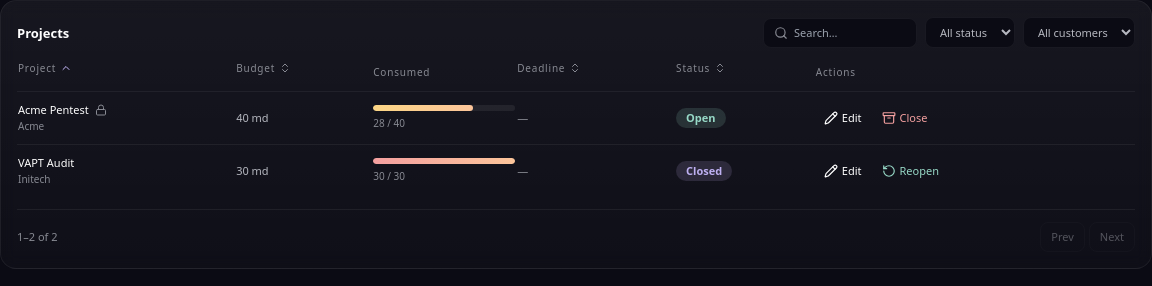
Scenario: ProjectsTable › renders both projects then filters by status
Expected: the text "Acme Pentest" is shown, [18,102,89,118]
Expected: the text "VAPT Audit" is shown, [18,155,74,171]
Select "Closed" in the dropdown named "Status filter": (970, 32) [925,17,1015,48]
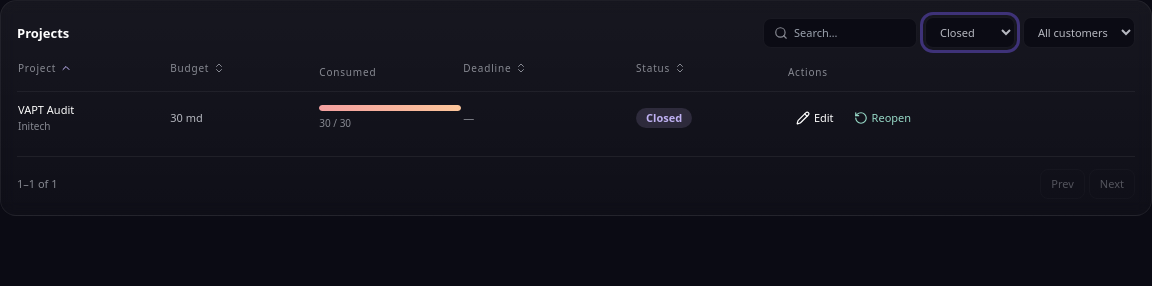
Expected: the text "VAPT Audit" is shown, [18,102,74,118]
Result: the text "Acme Pentest" is gone
